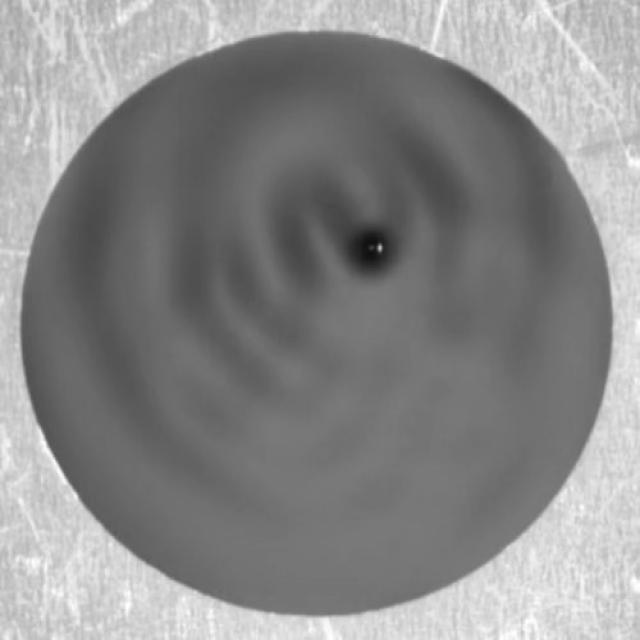droplet: (362, 235, 387, 267)
